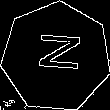N_W: (29, 35, 82, 79)
